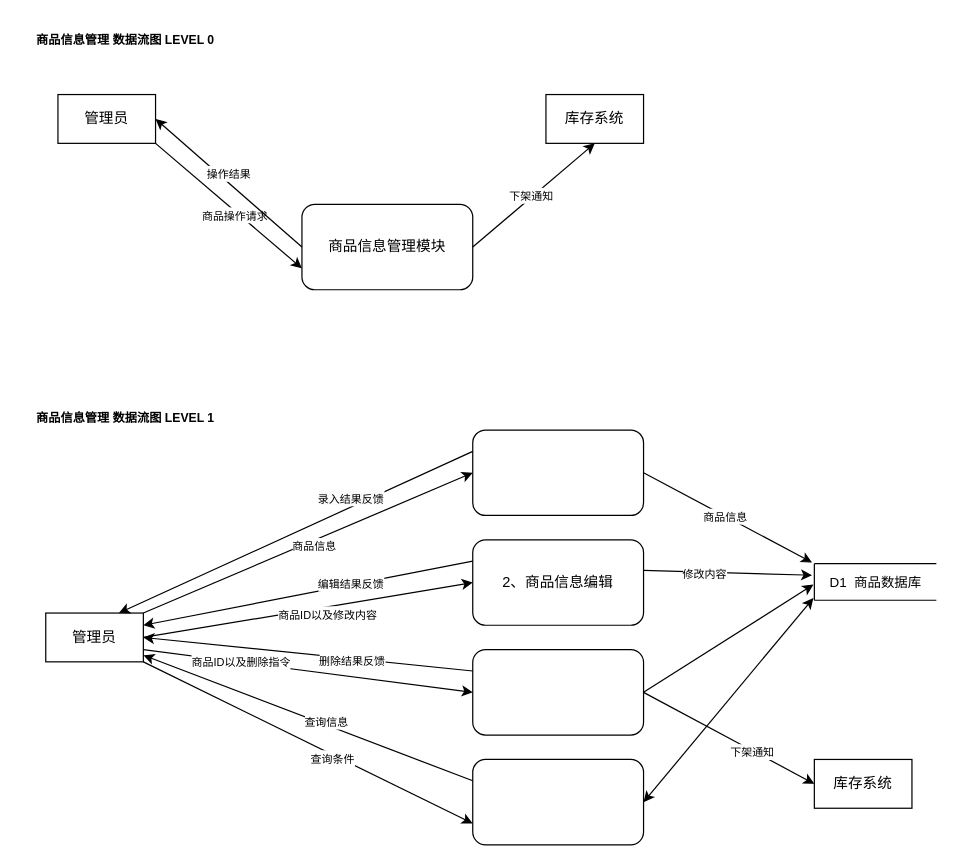
Some shapes in this 959 by 866 pixel diagram are drawn without their labels. The shapes that lost their labels are listed below. From the top down, each one's box as (x1, y1, x2, y2) in pixels, then its label:
(472, 429, 644, 515): 1、商品信息录入
(472, 648, 644, 735): 3、商品删除/下架
(472, 758, 644, 845): 4、商品查询与检索
